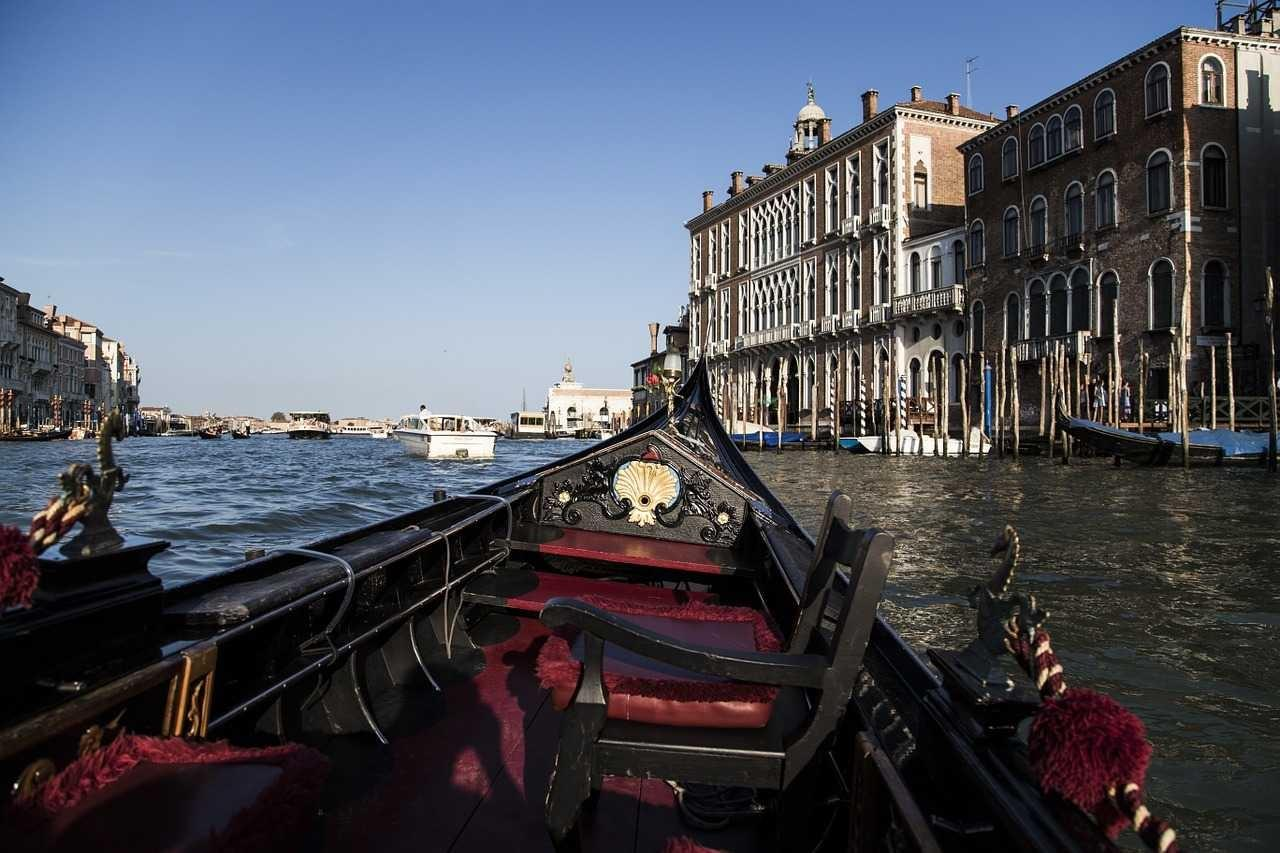kayak: (0, 342, 1190, 852), (1058, 415, 1175, 466), (390, 407, 498, 461), (1174, 427, 1278, 462), (732, 426, 808, 450), (838, 435, 881, 453)
